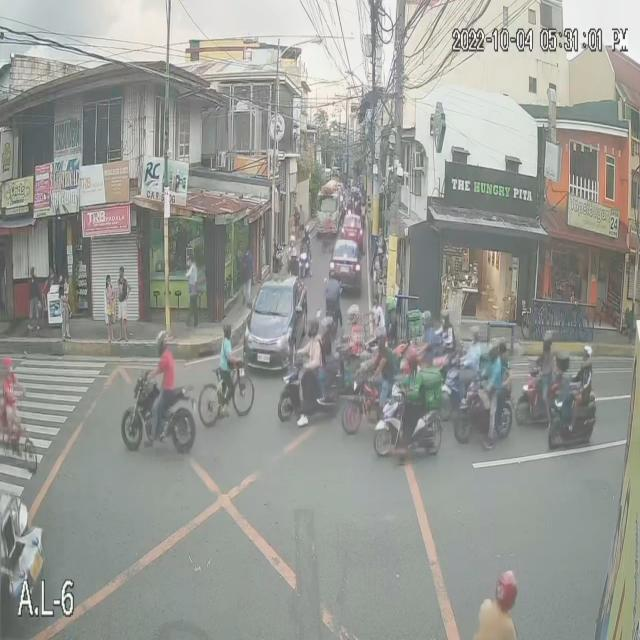Full-Faced: (483, 332, 502, 367), (497, 568, 515, 604), (306, 312, 324, 346), (578, 338, 593, 378), (439, 308, 454, 337), (151, 332, 169, 356), (398, 354, 413, 381), (538, 329, 554, 352), (346, 302, 360, 328), (374, 322, 386, 348), (421, 302, 432, 330), (466, 318, 477, 346), (382, 292, 393, 317), (289, 229, 302, 250), (324, 260, 340, 276), (303, 218, 313, 242), (321, 312, 330, 338)
Half-Faced: (217, 327, 232, 345)
